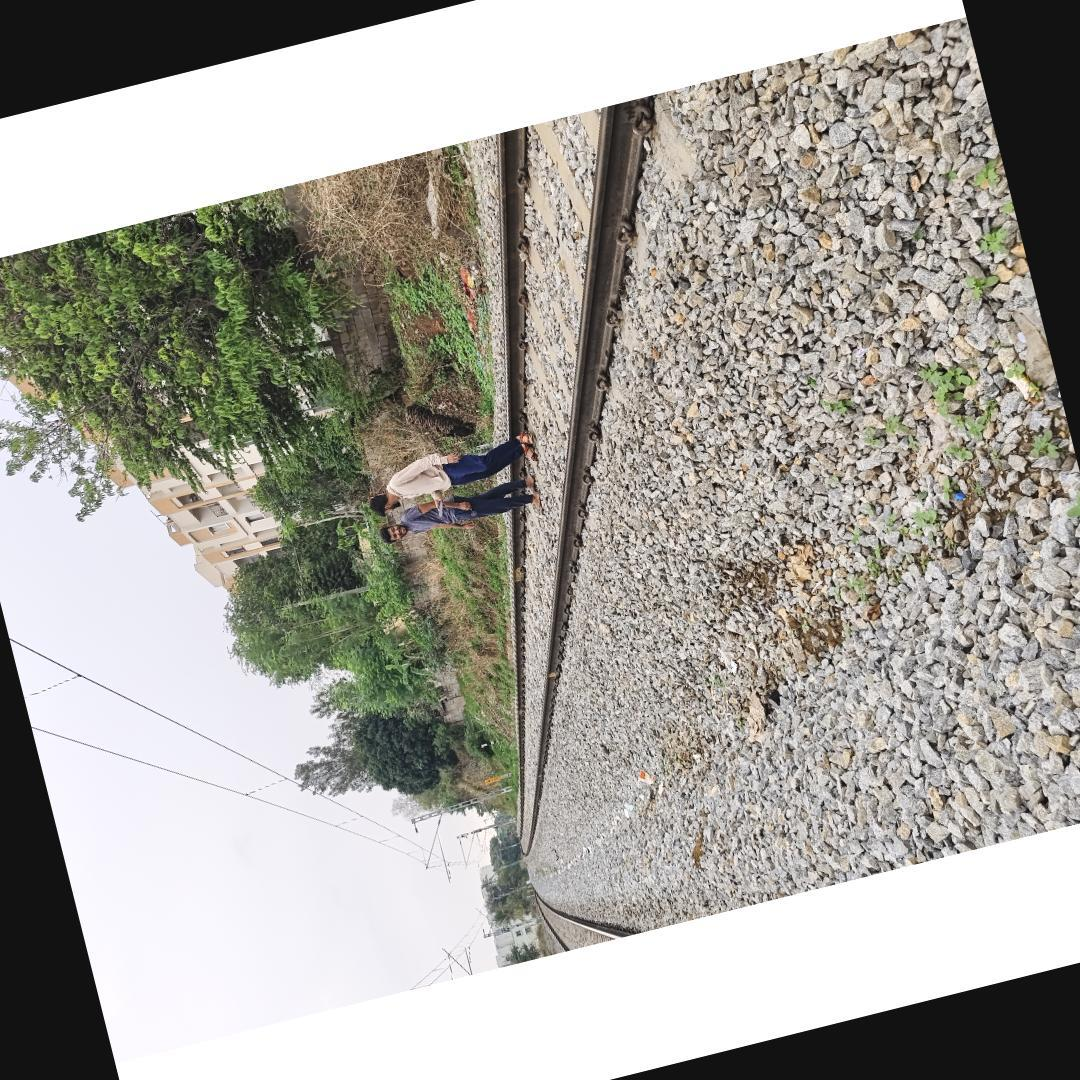standing: (357, 428, 544, 528), (373, 473, 543, 553)
track: (466, 81, 707, 861)
